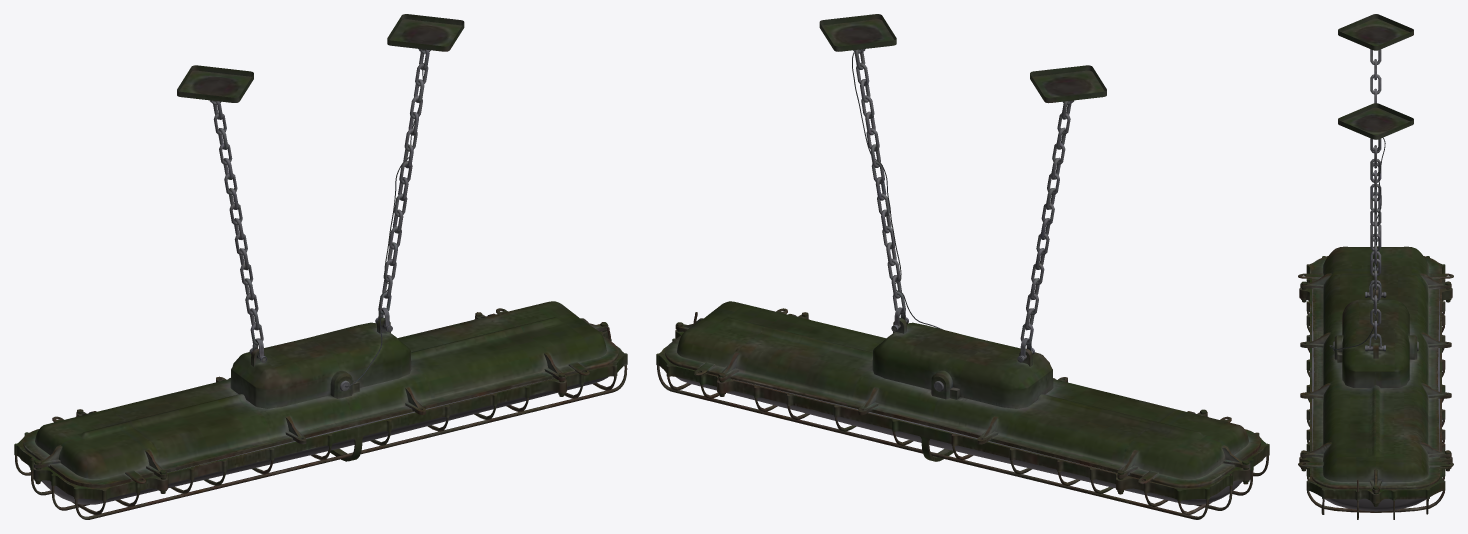
Rendered from light-caged.glb.
3 renders of one model, left to right at view 1: azimuth 30°, elevation 25°; view 2: azimuth 150°, elevation 25°; view 3: azimuth 270°, elevation 25°, orthographic. The views are drawn at different scales.
Parts seen in each view (by area): view 1: caged_hanging_light; view 2: caged_hanging_light; view 3: caged_hanging_light.
Boxes of the visible parts, x1,y1,x2,y2 form: caged_hanging_light: (14,14,627,519); caged_hanging_light: (656,14,1269,519); caged_hanging_light: (1298,14,1453,519).
Size of the model in its own units: 1.16 by 0.7501 by 0.3149.
1 material, 1 textured.
